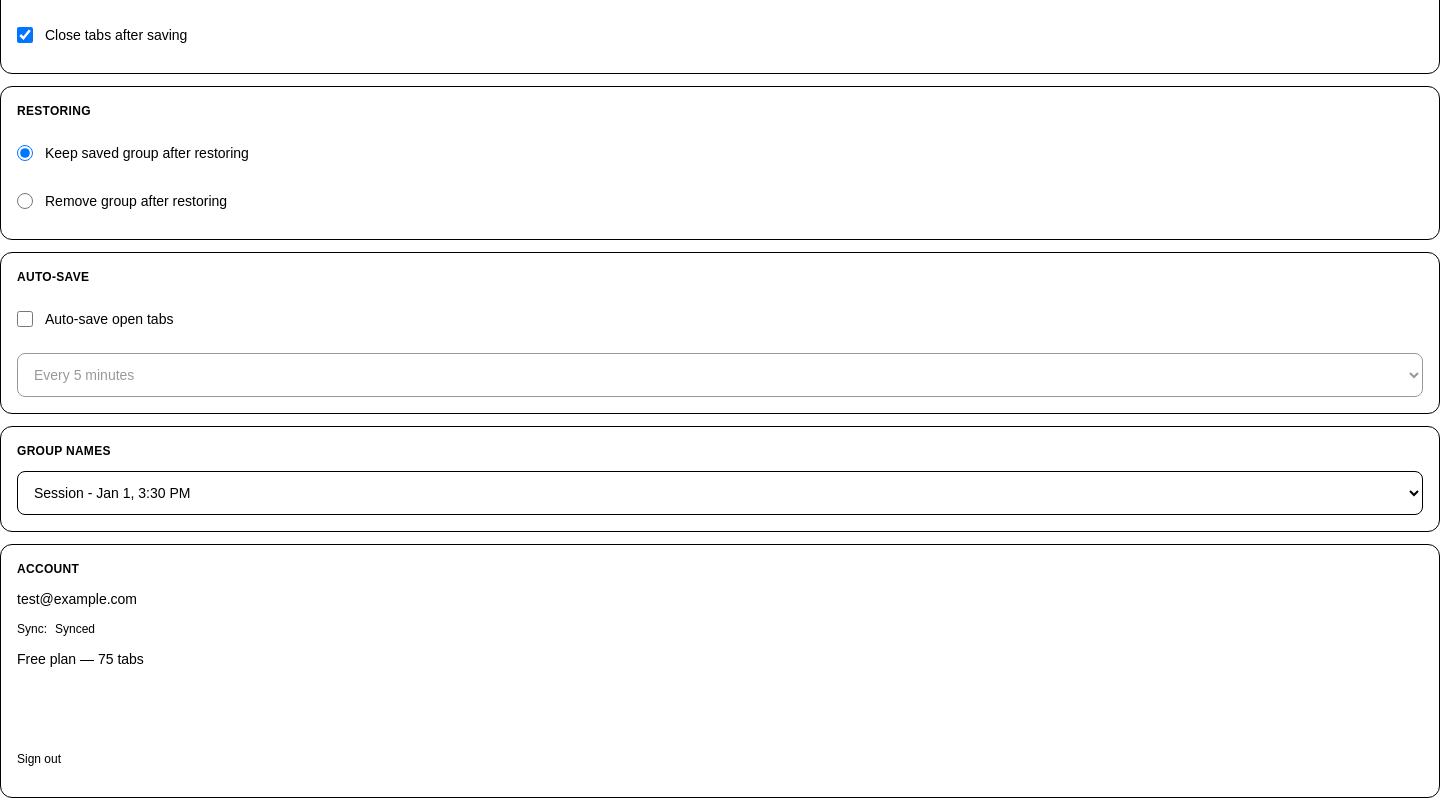
SettingsPanel › Account section — logged in › cancels sign out and returns to normal view
(page scrolled)
Click the button "Sign out": point(39, 759) [17,737,61,781]
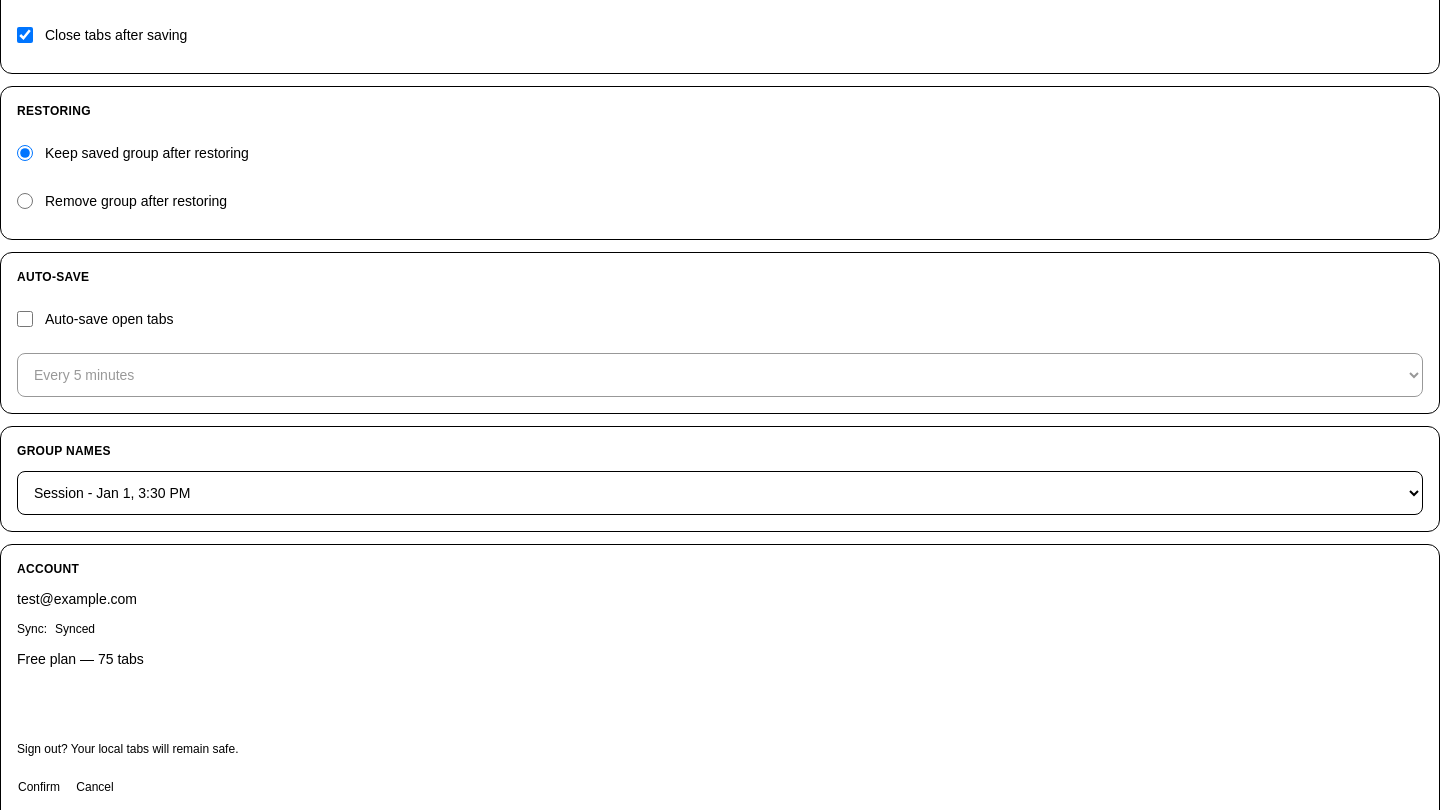
Click the button "Cancel": point(95, 787) [73,765,117,809]
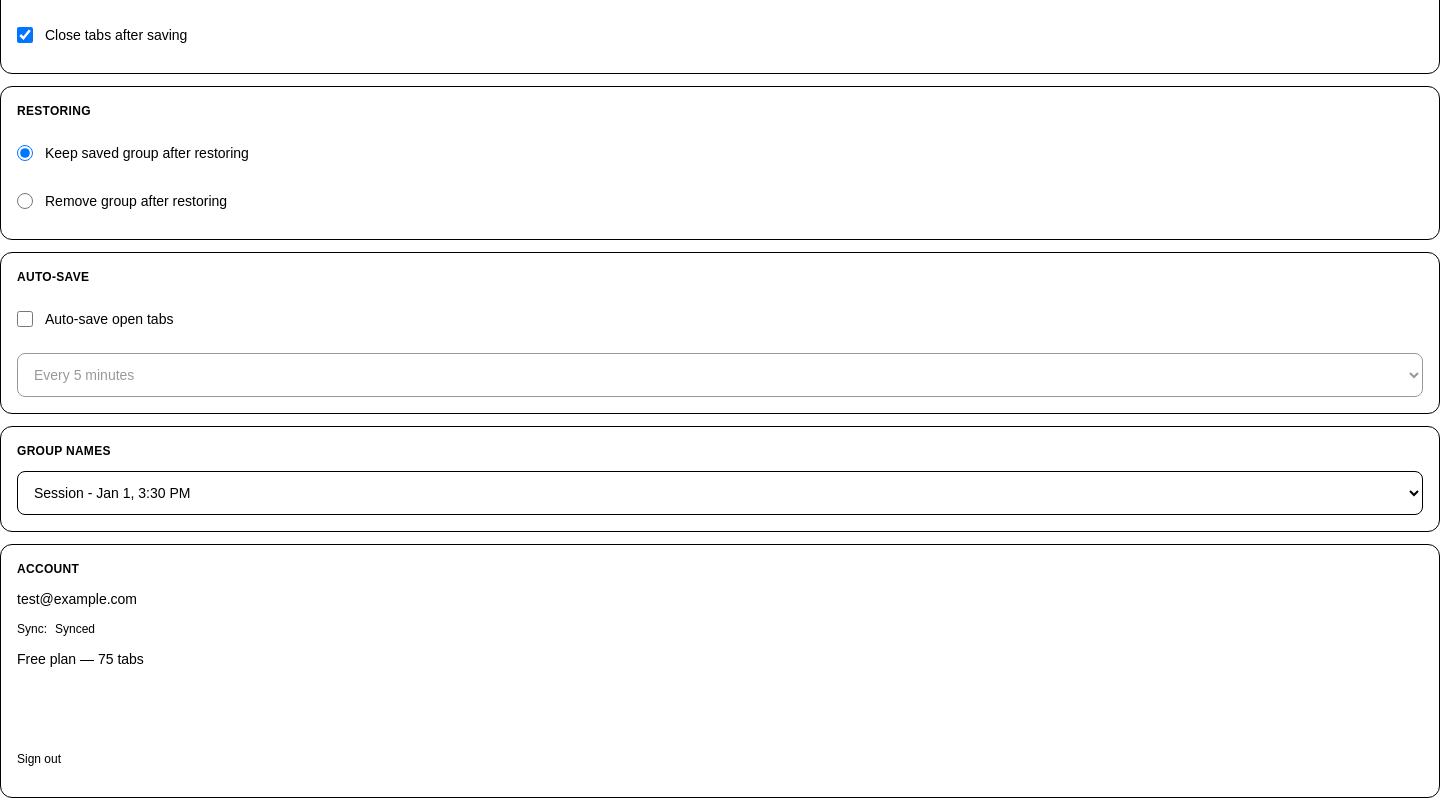
Expected: the button "Sign out" is shown, [17,737,61,781]
Result: the button "Confirm" is gone
